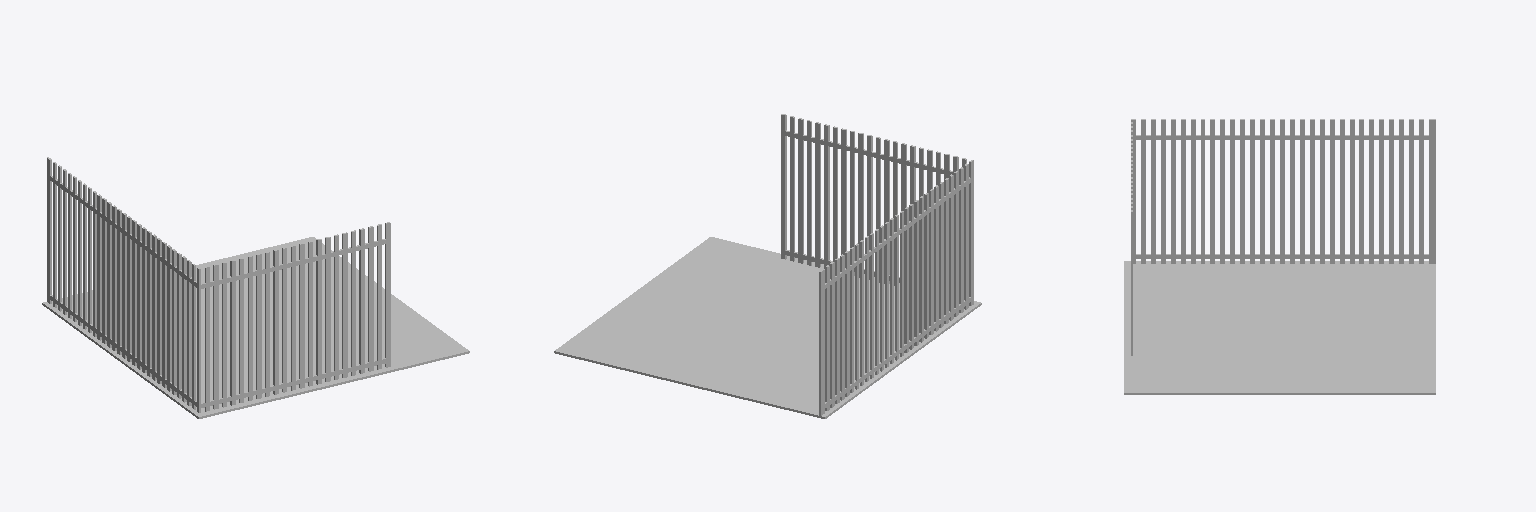
The model's file is tile entrada instituto con esquina en valla.obj.
3 views of the same model, side by side, from view 1: azimuth 30°, elevation 25°; view 2: azimuth 150°, elevation 25°; view 3: azimuth 270°, elevation 25° (orthographic).
Visible parts, largest first — view 1: object 1; view 2: object 1; view 3: object 1.
Part boxes in pixels (bbox=[...]): object 1: bbox=[42, 157, 469, 418]; object 1: bbox=[554, 114, 981, 418]; object 1: bbox=[1124, 119, 1435, 394].
Size of the model in its own units: 12.6 by 6.5 by 12.6.